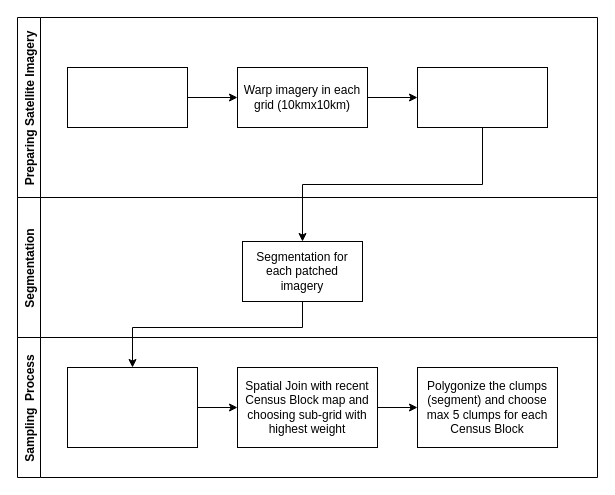
Some shapes in this 615 by 495 pixel diagram are drawn without their labels. The box of each missing label's shape, as (x1, y1, x2, y2) in pixels:
Calculate the weight of each sub-grid (100mx100m) in recent 2021 Land Cover map: (66, 366, 198, 448)
Merge SPOT 6/7 for each province from 2019-2020: (66, 66, 188, 128)
Patched imagery for the boundary area: (416, 66, 548, 128)
